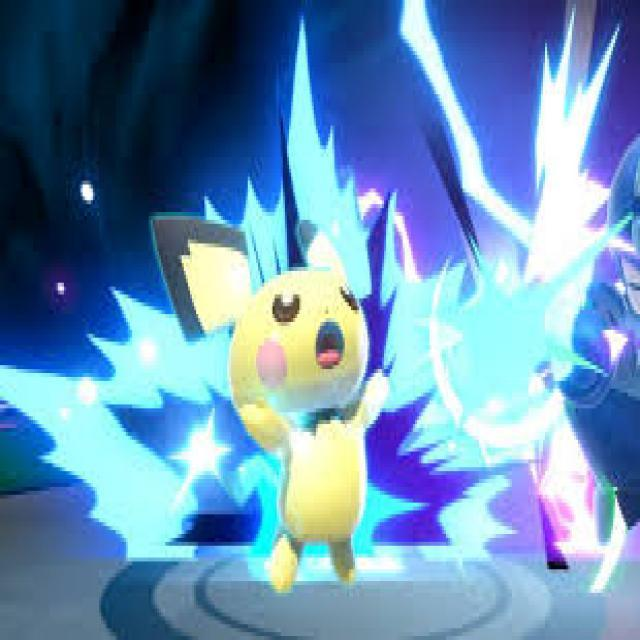pichu: (143, 198, 431, 582)
